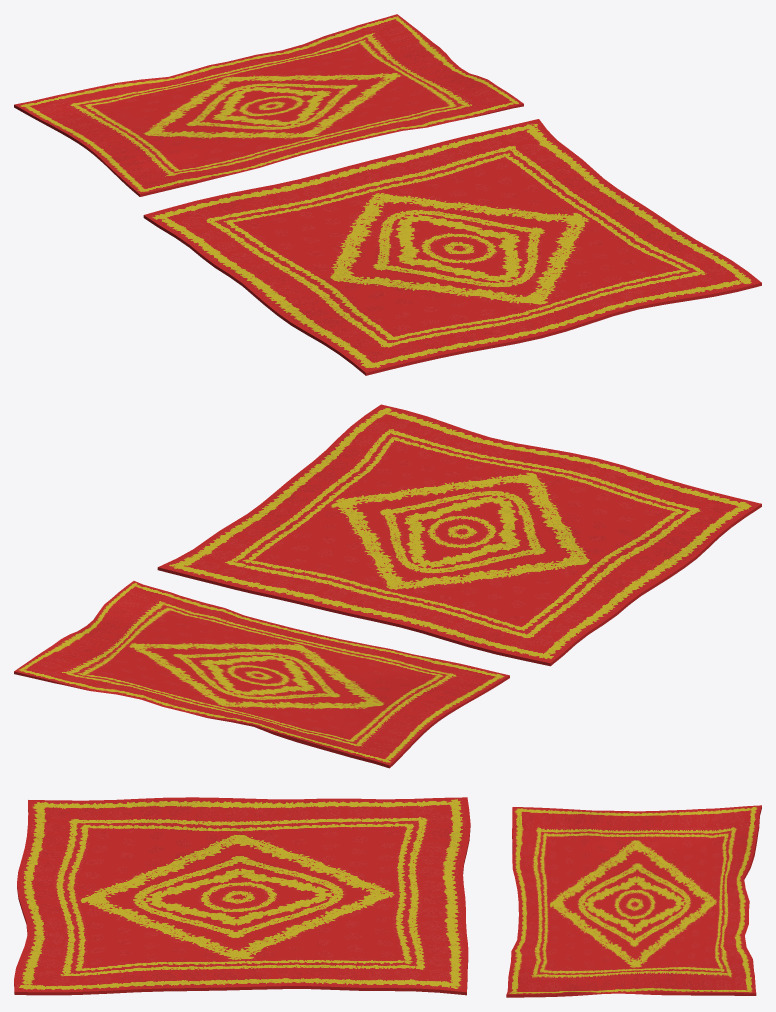
Rendered from RoomCarpets.fbx.
The picture shows the model from 3 angles, top to bottom: view 1: azimuth 30°, elevation 25°; view 2: azimuth 150°, elevation 25°; view 3: azimuth 270°, elevation 25°; orthographic projection.
Visible parts, largest first — view 1: CarpetSquare.001, CarpetRectangle.001; view 2: CarpetSquare.001, CarpetRectangle.001; view 3: CarpetSquare.001, CarpetRectangle.001.
Part boxes in pixels (<box>): CarpetSquare.001: <box>143,119,761,375</box>; CarpetRectangle.001: <box>14,14,523,196</box>; CarpetSquare.001: <box>157,404,761,666</box>; CarpetRectangle.001: <box>14,581,509,768</box>; CarpetSquare.001: <box>14,797,470,995</box>; CarpetRectangle.001: <box>506,805,761,997</box>.
Size of the model in its own units: 396 by 3.43 by 635.
